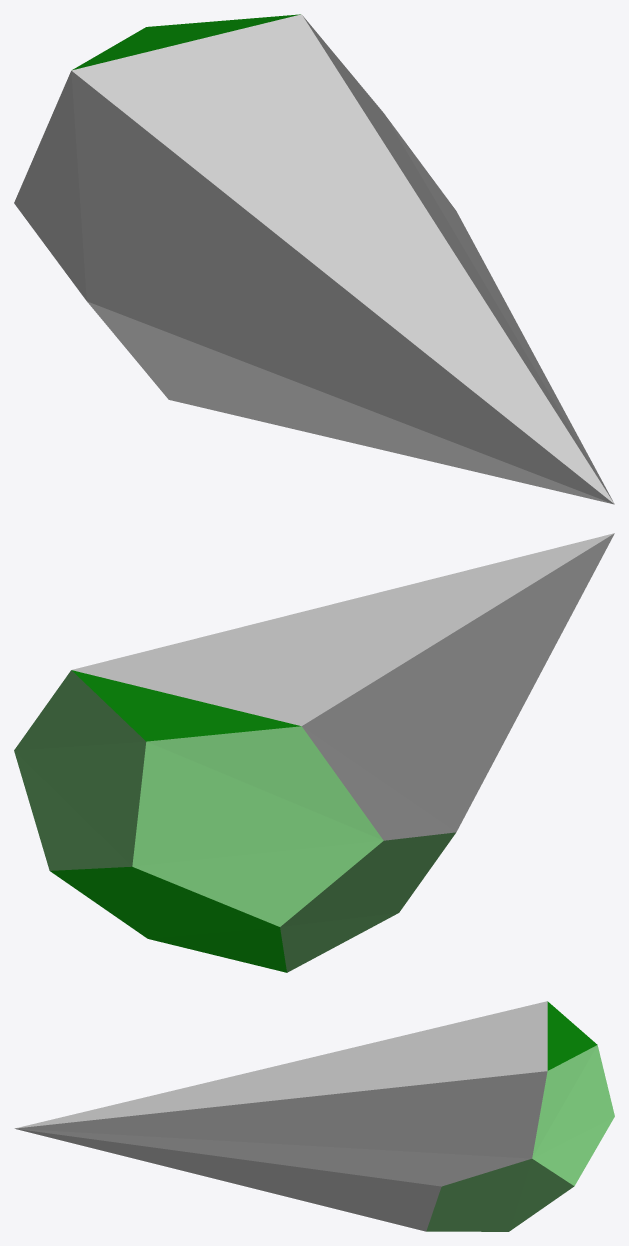
The model's file is anaconda.obj.
The picture shows the model from 3 angles, top to bottom: view 1: azimuth 30°, elevation 25°; view 2: azimuth 150°, elevation 25°; view 3: azimuth 270°, elevation 25°; orthographic projection. The views are drawn at different scales.
Bounding box in the file's own units: 138 × 100 × 312.
